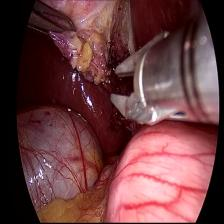Clipper: (108, 25, 207, 130)
Grasper: (26, 0, 78, 46)
